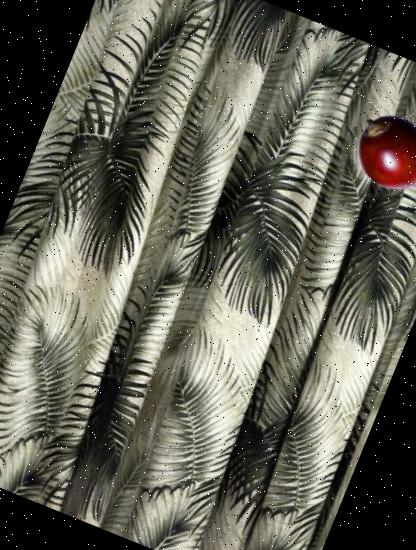Tamarillo: (340, 99, 416, 204)
